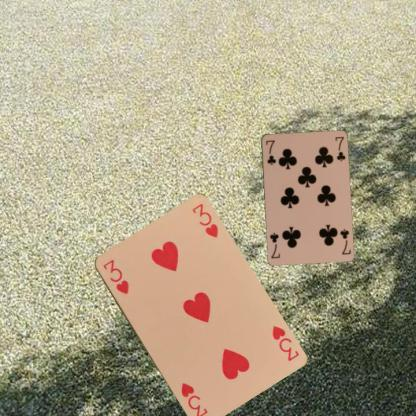3h: (268, 323, 300, 362), (100, 256, 130, 296)
7c: (337, 226, 352, 255), (263, 137, 277, 166)
